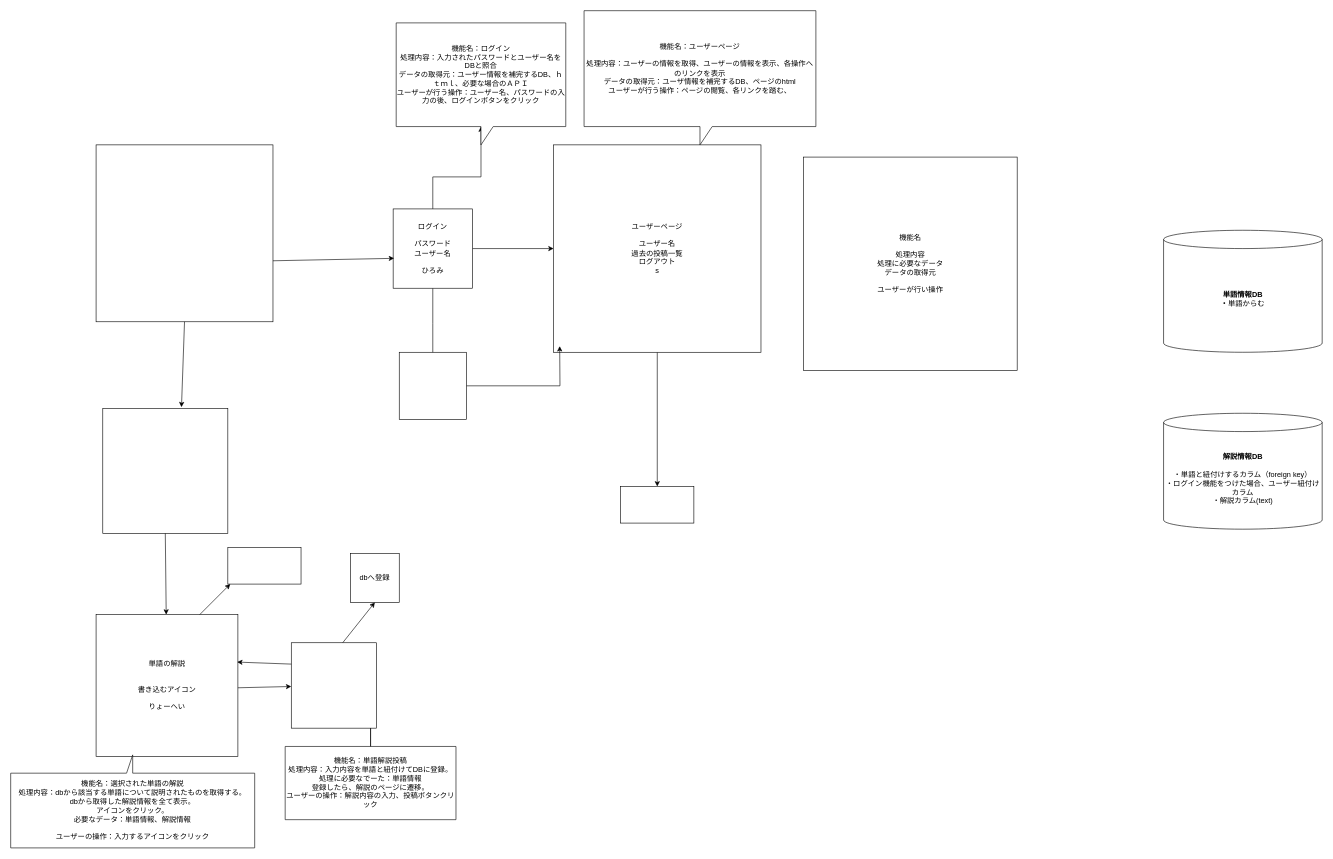
Image size: 1333x859. Some labels were removed from this diagram. Here are the shapes that lost their labels. From the top down, the centre of each, then its label:
At point (184, 233): "ホーム画面 検索窓 単語がずらり ひらまつ".
At point (432, 385): "登録画面 名前 パスワード e-mail twitter,google API".
At point (165, 470): "単語 解説 解説 解説 ひらまつ".
At point (657, 504): "ログインした状態".
At point (264, 565): "dbへ検索".
At point (334, 685): "解説 投稿 りょーへい".
